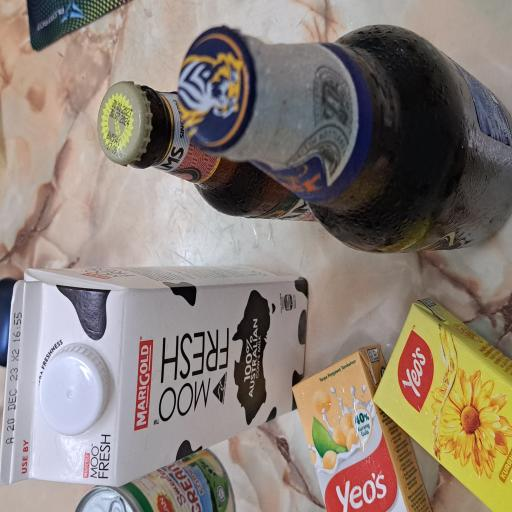can: (0, 96, 47, 315)
drink carton: (16, 0, 188, 411), (0, 389, 125, 512)
glass bottle: (192, 233, 368, 512), (218, 130, 326, 424)
plastic bottle cap: (57, 53, 126, 147)
pop tab: (0, 142, 12, 168)
